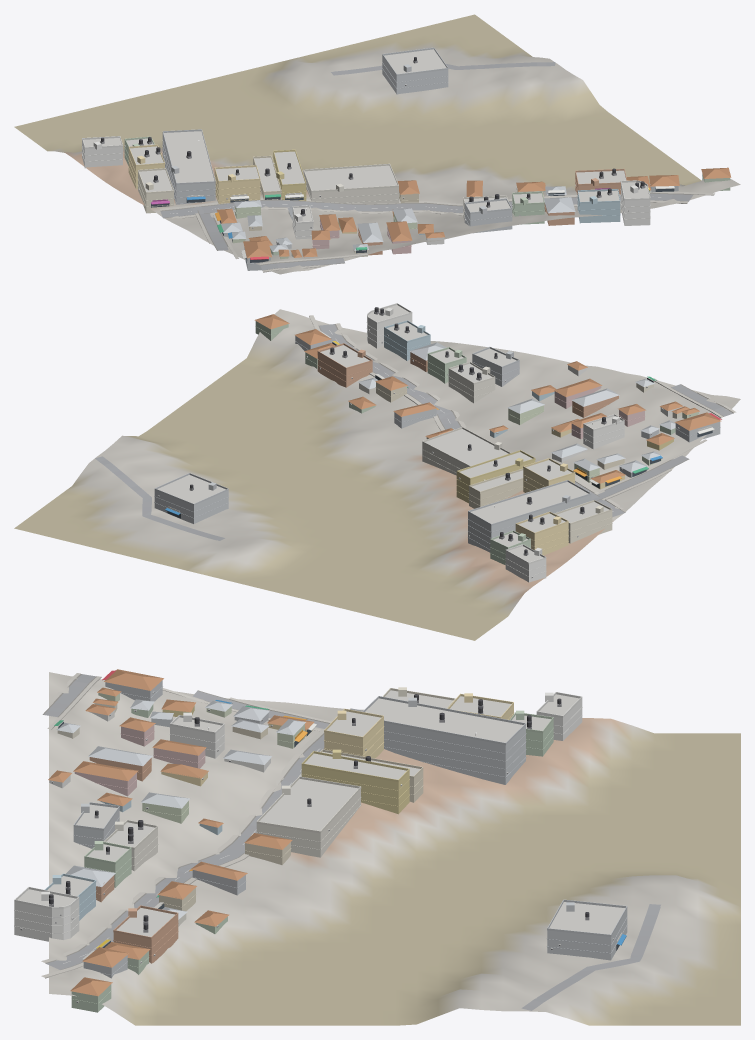
The picture shows the model from 3 angles, top to bottom: view 1: azimuth 30°, elevation 25°; view 2: azimuth 150°, elevation 25°; view 3: azimuth 270°, elevation 25°; orthographic projection. The views are drawn at different scales.
Parts seen in each view (by area): view 1: Terrain-col, Buildings-col, Details, Roads-col, Sidewalks-col; view 2: Terrain-col, Buildings-col, Details, Roads-col, Sidewalks-col; view 3: Terrain-col, Buildings-col, Details, Roads-col, Sidewalks-col.
Boxes of the visible parts, box(x1,y1,x2,y2) form: Terrain-col: box(14, 14, 740, 274); Buildings-col: box(82, 49, 731, 270); Details: box(82, 47, 703, 264); Roads-col: box(160, 62, 693, 270); Sidewalks-col: box(160, 191, 714, 272); Terrain-col: box(14, 309, 740, 640); Buildings-col: box(154, 305, 721, 582); Details: box(154, 303, 721, 577); Roads-col: box(95, 324, 733, 540); Sidewalks-col: box(309, 315, 736, 509); Terrain-col: box(49, 672, 740, 1025); Buildings-col: box(14, 669, 627, 1012); Details: box(14, 670, 627, 1003); Roads-col: box(42, 674, 660, 1010); Sidewalks-col: box(41, 673, 337, 978).
Size of the model in its own units: 264 by 27.12 by 269.
